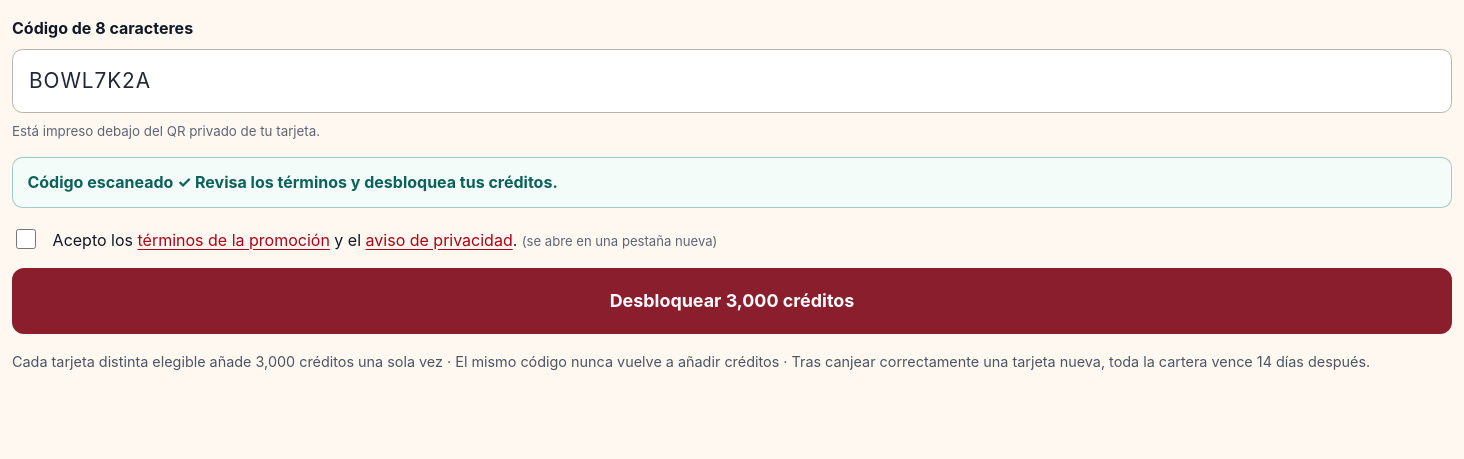
Test case: RedeemForm › maps a paused validation response to explicit localized guidance in es
Click the checkbox named "termsAccepted" at (26, 239), box [16,229,36,249]
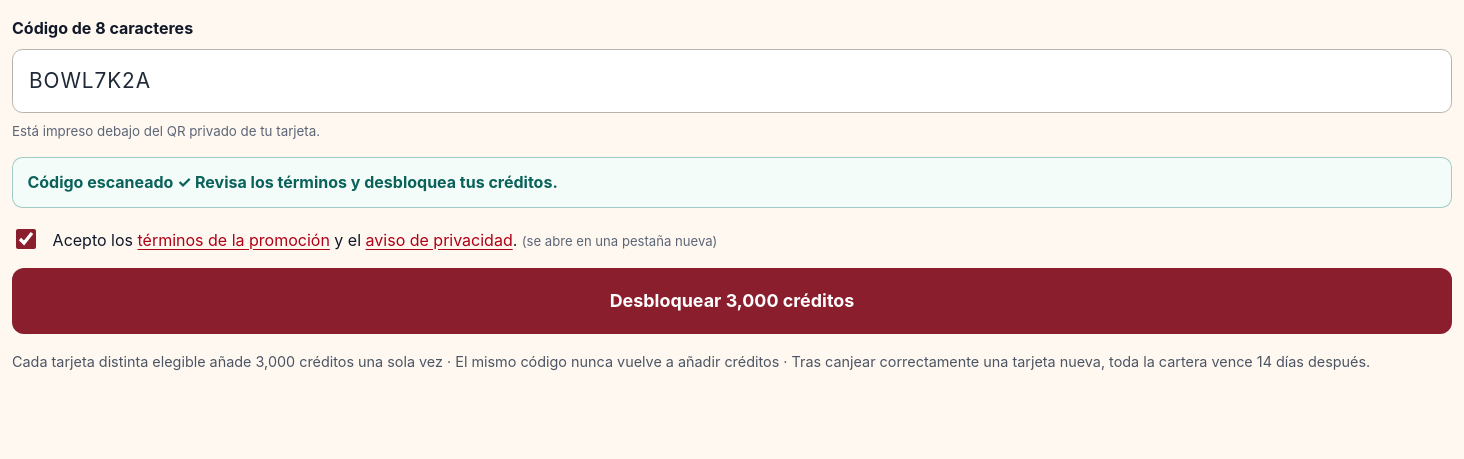
Submit the form
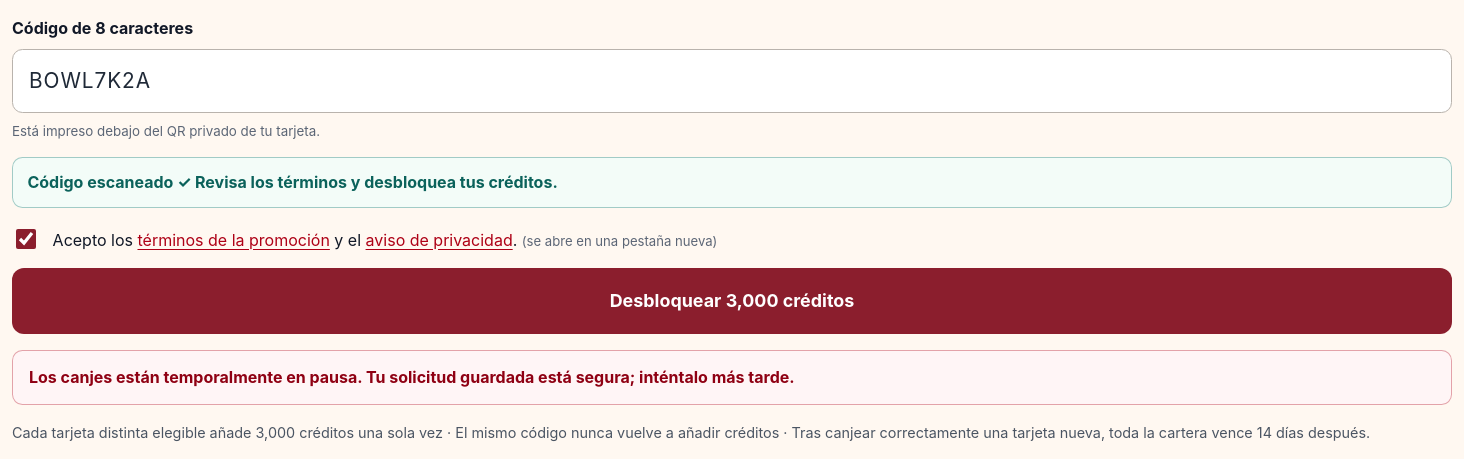
Check: the text "Los canjes están temporalmente en pausa. Tu solicitud guardada está segura; inténtalo más tarde." is shown, box [29,367,795,387]
